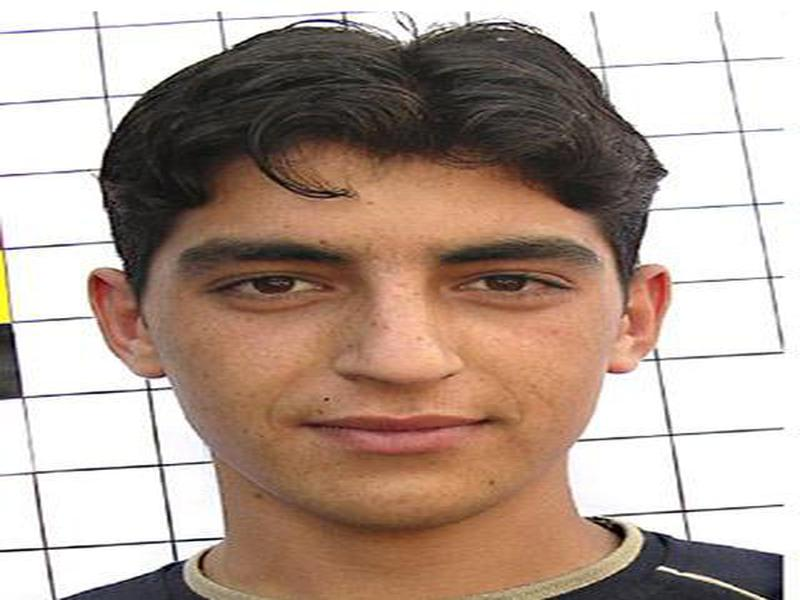without_mask: (136, 136, 625, 531)
